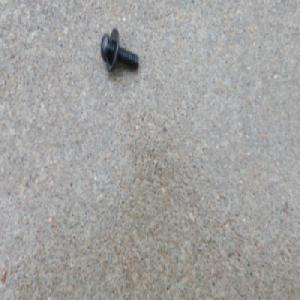BoltWasher: (99, 27, 139, 74)
